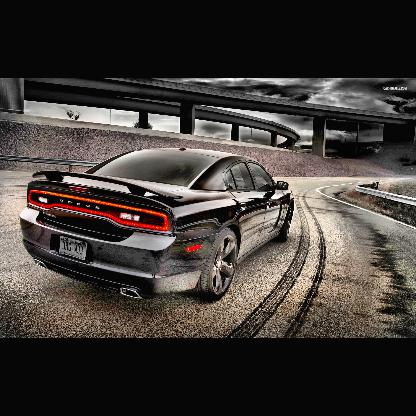Dodge Charger Sedan 2012: (19, 146, 297, 303)
